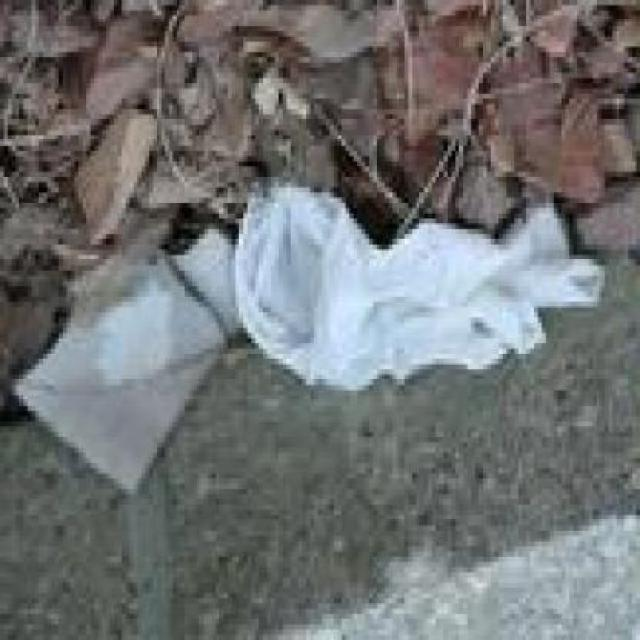gloved_hand: (228, 182, 612, 398)
